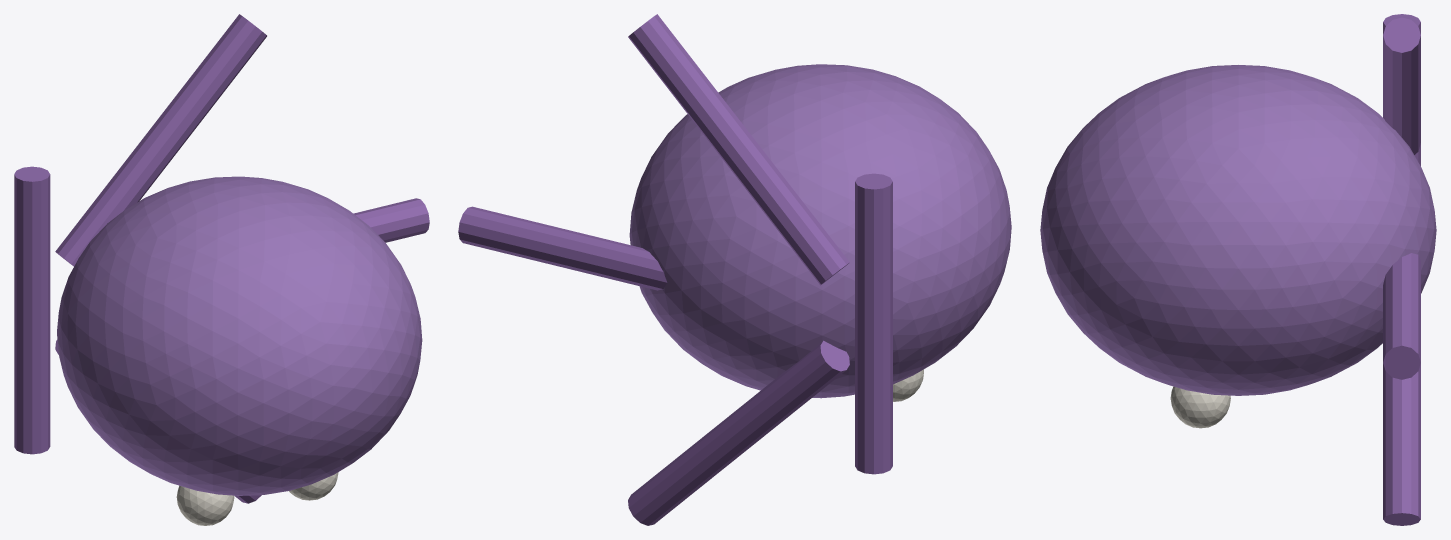
Rendered from octopus_enemy_blockout.glb.
The picture shows the model from 3 angles, left to right: view 1: azimuth 30°, elevation 25°; view 2: azimuth 150°, elevation 25°; view 3: azimuth 270°, elevation 25°; orthographic projection. The views are drawn at different scales.
Visible parts, largest first — view 1: octopus_enemy_blockout_0, octopus_enemy_blockout_3, octopus_enemy_blockout_2, octopus_enemy_blockout_7, octopus_enemy_blockout_6, octopus_enemy_blockout_1, octopus_enemy_blockout_9, octopus_enemy_blockout_10, octopus_enemy_blockout_5; view 2: octopus_enemy_blockout_0, octopus_enemy_blockout_2, octopus_enemy_blockout_3, octopus_enemy_blockout_4, octopus_enemy_blockout_1, octopus_enemy_blockout_6, octopus_enemy_blockout_7, octopus_enemy_blockout_8, octopus_enemy_blockout_5; view 3: octopus_enemy_blockout_0, octopus_enemy_blockout_4, octopus_enemy_blockout_2, octopus_enemy_blockout_1, octopus_enemy_blockout_6, octopus_enemy_blockout_10, octopus_enemy_blockout_5, octopus_enemy_blockout_8.
Boxes of the visible parts, x1,y1,x2,y2 form: octopus_enemy_blockout_0: (57,176,422,495); octopus_enemy_blockout_3: (14,166,50,454); octopus_enemy_blockout_2: (55,14,266,266); octopus_enemy_blockout_7: (14,167,50,454); octopus_enemy_blockout_6: (56,14,265,264); octopus_enemy_blockout_1: (353,198,429,242); octopus_enemy_blockout_9: (176,485,234,525); octopus_enemy_blockout_10: (289,472,338,500); octopus_enemy_blockout_5: (355,198,429,241); octopus_enemy_blockout_0: (629,64,1011,398); octopus_enemy_blockout_2: (628,14,849,285); octopus_enemy_blockout_3: (855,173,892,474); octopus_enemy_blockout_4: (628,340,849,525); octopus_enemy_blockout_1: (458,206,667,290); octopus_enemy_blockout_6: (630,15,847,284); octopus_enemy_blockout_7: (855,174,892,474); octopus_enemy_blockout_8: (629,342,849,524); octopus_enemy_blockout_5: (458,207,666,289); octopus_enemy_blockout_0: (1040,65,1436,395); octopus_enemy_blockout_4: (1383,363,1420,525); octopus_enemy_blockout_2: (1383,17,1420,154); octopus_enemy_blockout_1: (1383,253,1420,379); octopus_enemy_blockout_6: (1383,18,1420,154); octopus_enemy_blockout_10: (1170,386,1230,428); octopus_enemy_blockout_5: (1383,253,1420,378); octopus_enemy_blockout_8: (1383,366,1420,525).
Size of the model in its own units: 2 by 2.23 by 1.58.
